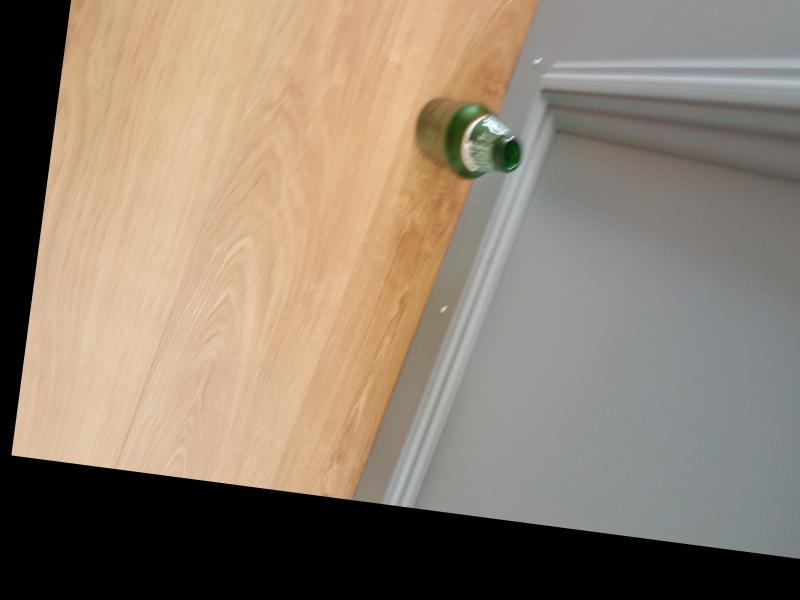Beer: (411, 96, 527, 184)
